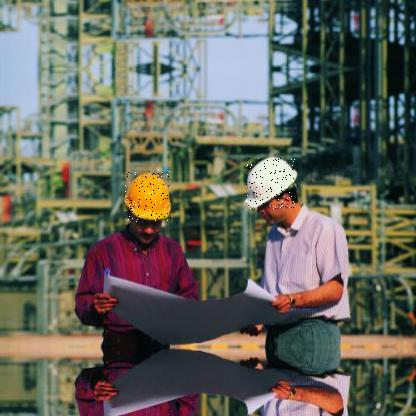safetyhelmet: (246, 158, 299, 210), (125, 172, 172, 224)
